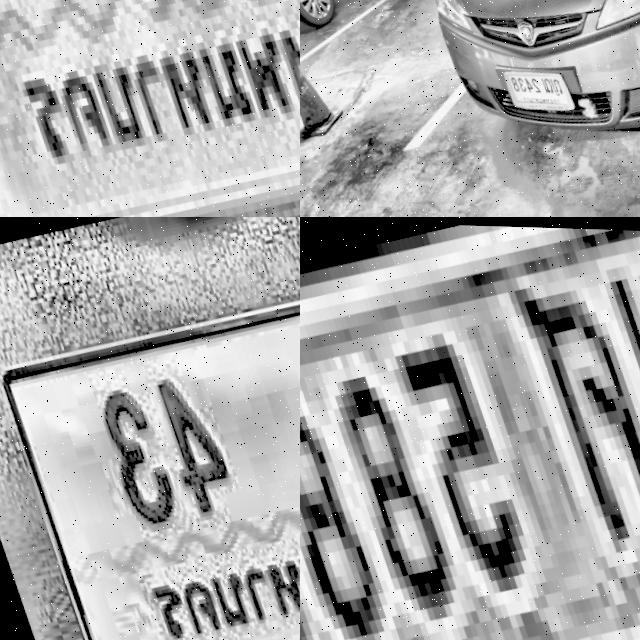license-plate: (300, 217, 640, 640), (0, 237, 300, 640), (0, 0, 300, 217), (491, 54, 569, 124)
